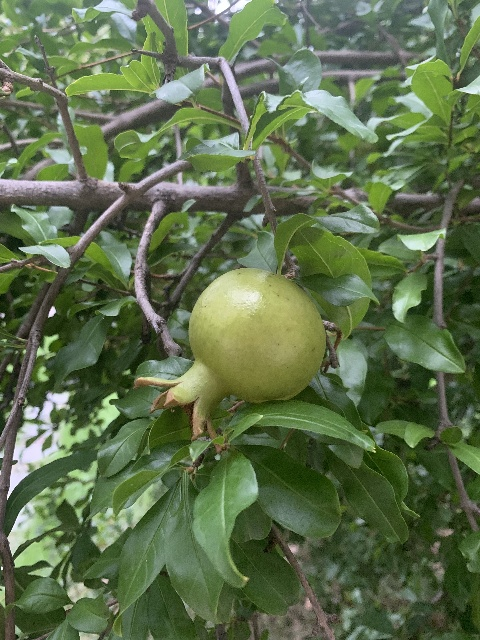mid-growth: (131, 267, 326, 443)
